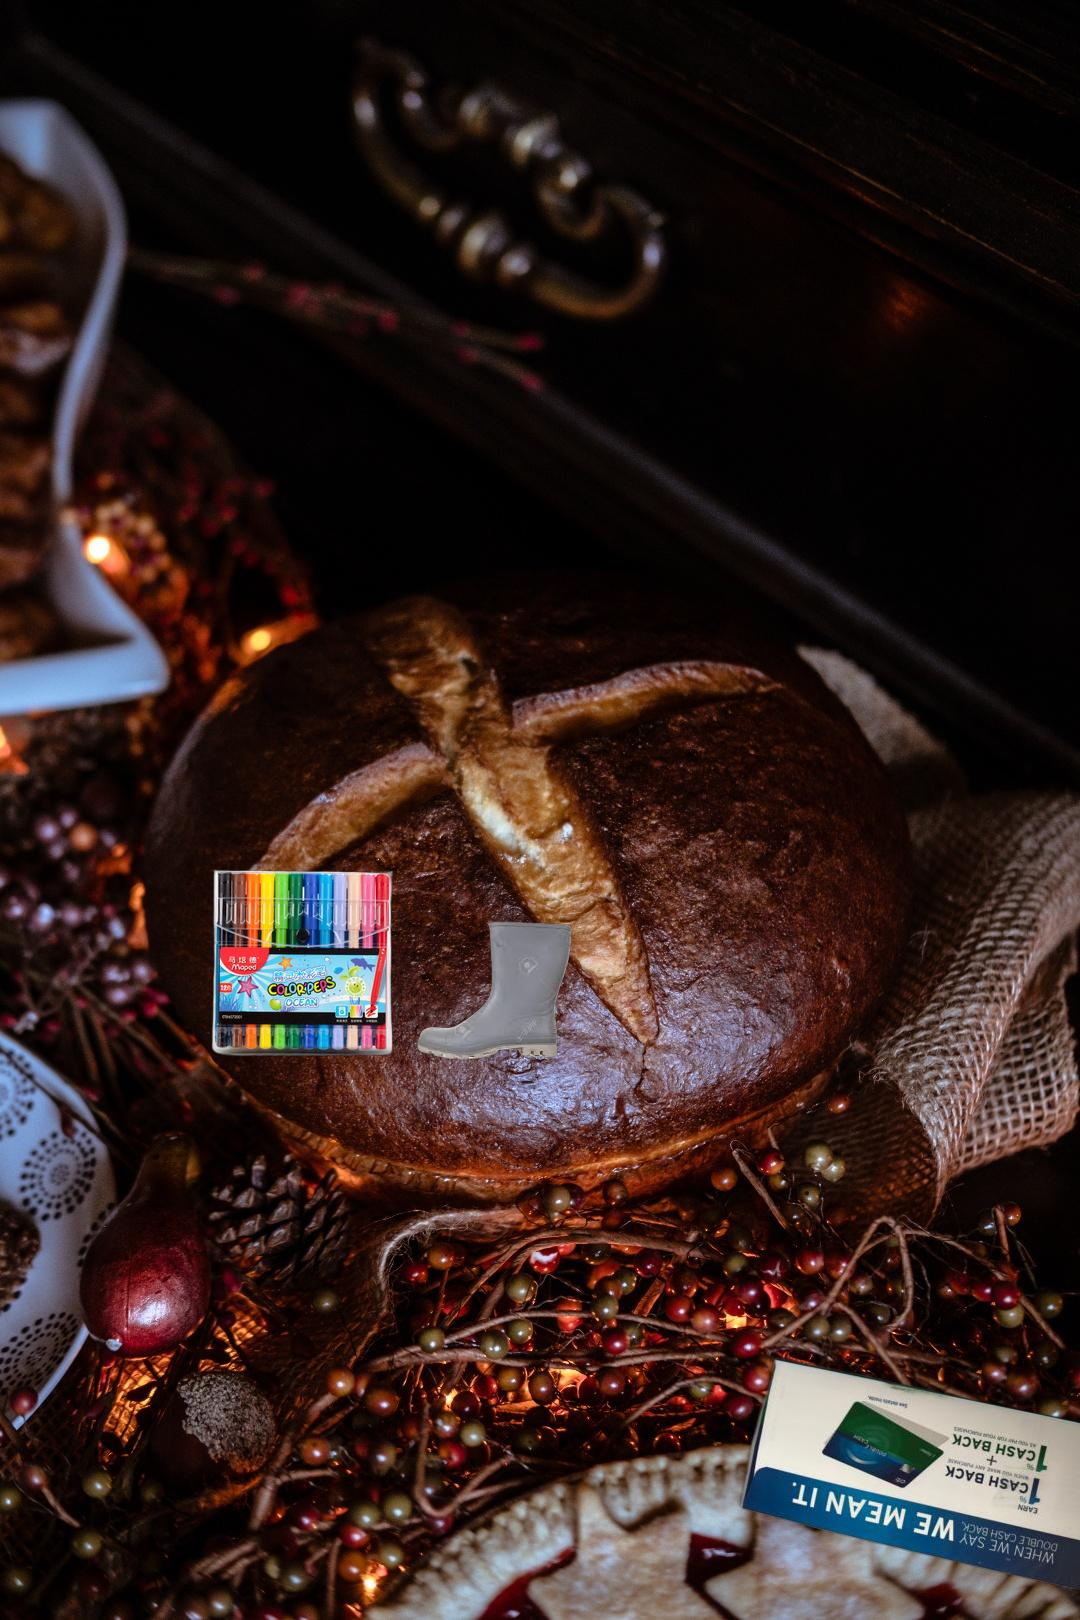paper: (735, 1355, 1080, 1596)
penholder: (209, 867, 401, 1060)
shoes: (413, 918, 575, 1063)
